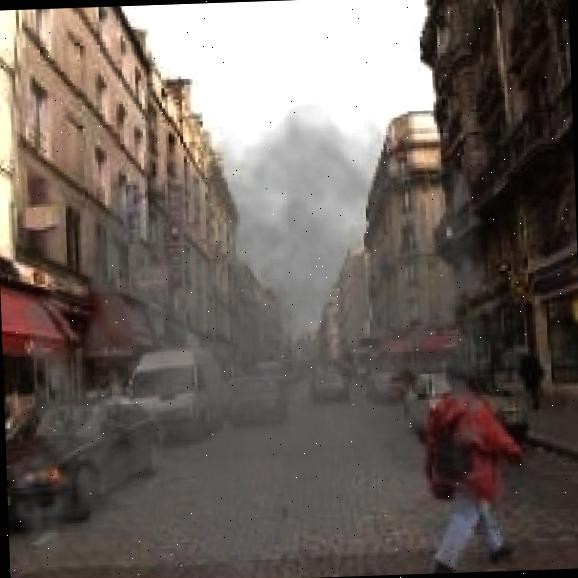smoke: (0, 70, 518, 578)
